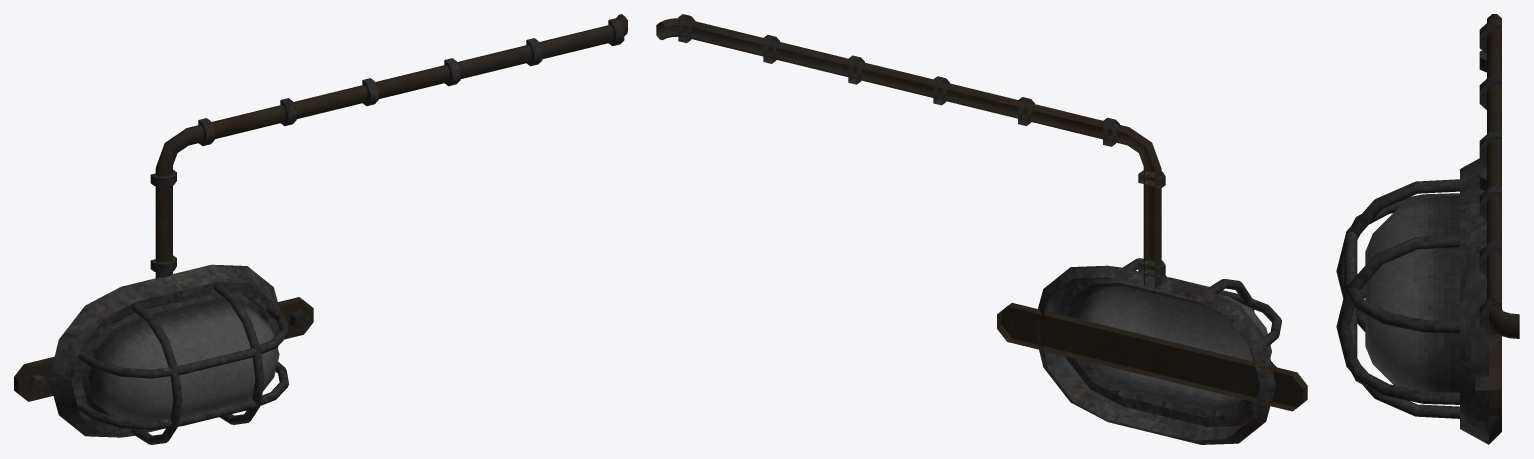
File: lamp_1_off.glb
3 renders of one model, left to right at view 1: azimuth 30°, elevation 25°; view 2: azimuth 150°, elevation 25°; view 3: azimuth 270°, elevation 25°, orthographic. The views are drawn at different scales.
Visible parts, largest first — view 1: lamp_1_off; view 2: lamp_1_off; view 3: lamp_1_off.
Boxes of the visible parts, bbox=[...] form: lamp_1_off: bbox=[14, 14, 627, 444]; lamp_1_off: bbox=[656, 14, 1307, 444]; lamp_1_off: bbox=[1336, 14, 1519, 444].
Size of the model in its own units: 0.7532 by 0.343 by 0.1393.
Materials: 4 (4 with a texture image).
